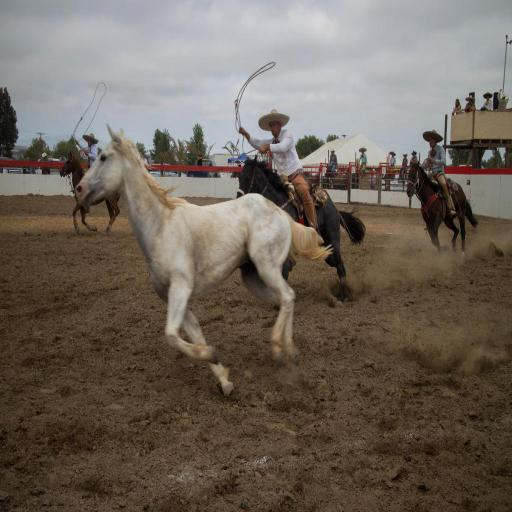Horse: (73, 123, 335, 399), (235, 153, 365, 303), (405, 160, 480, 259), (59, 148, 121, 235)
